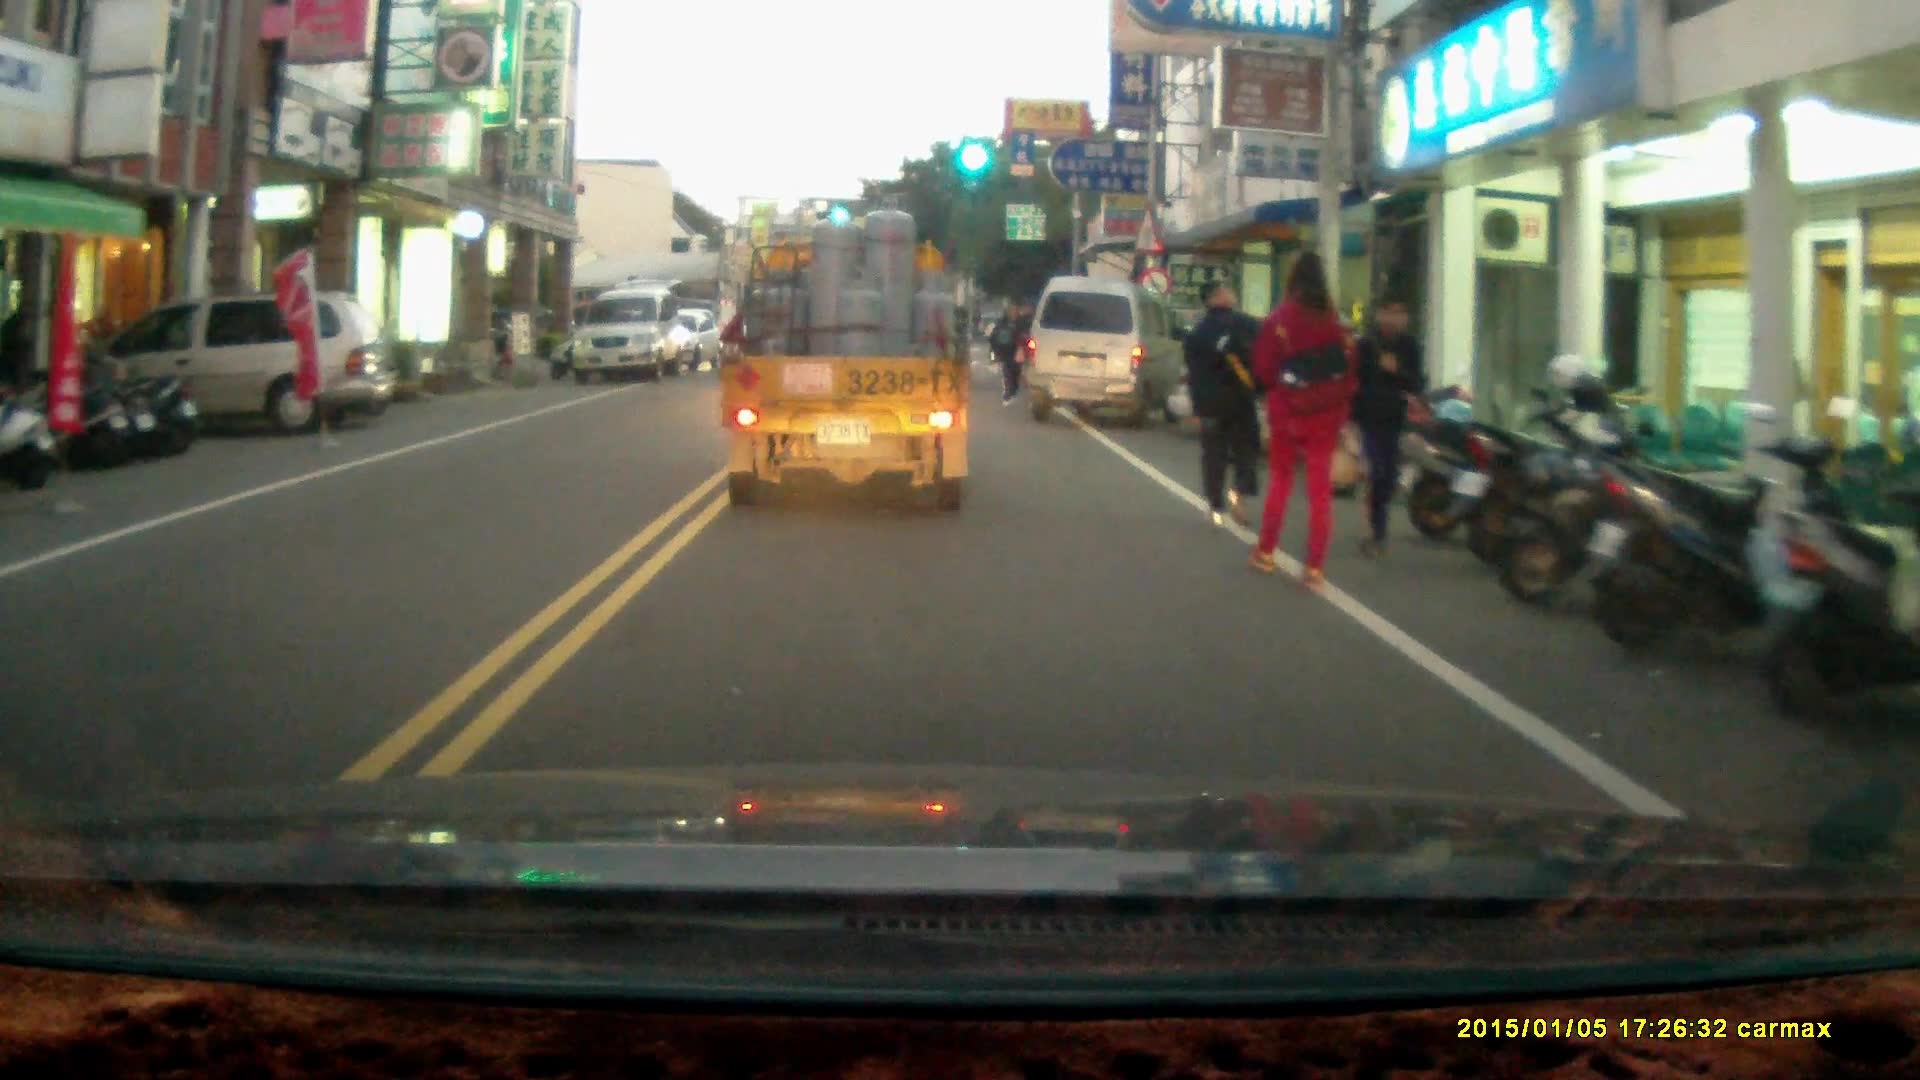pedestrian: (1250, 239, 1351, 592), (1177, 277, 1266, 531), (1346, 293, 1425, 563), (993, 301, 1028, 404)
vehicle: (712, 186, 979, 518), (86, 290, 393, 432), (1028, 274, 1182, 423), (578, 284, 697, 384)
